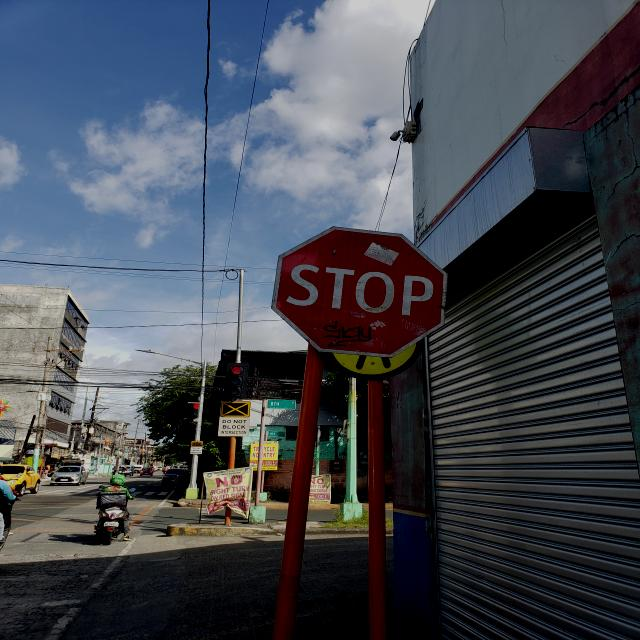stop-sign: (271, 225, 448, 358)
